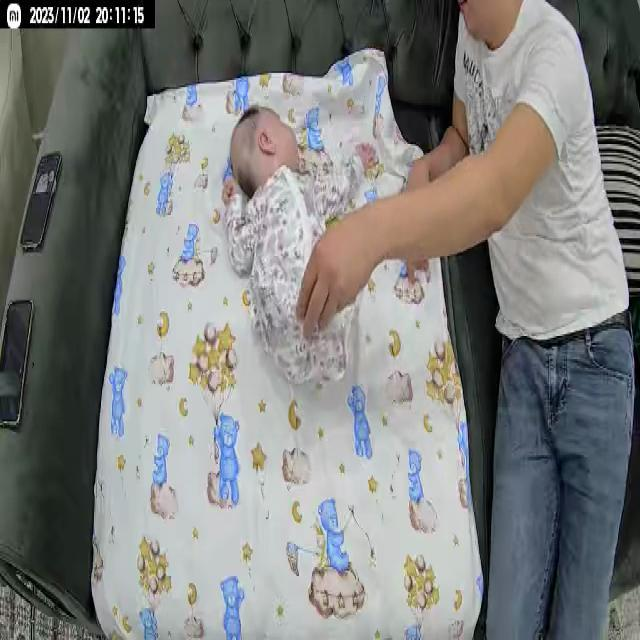baby: (219, 100, 377, 407)
